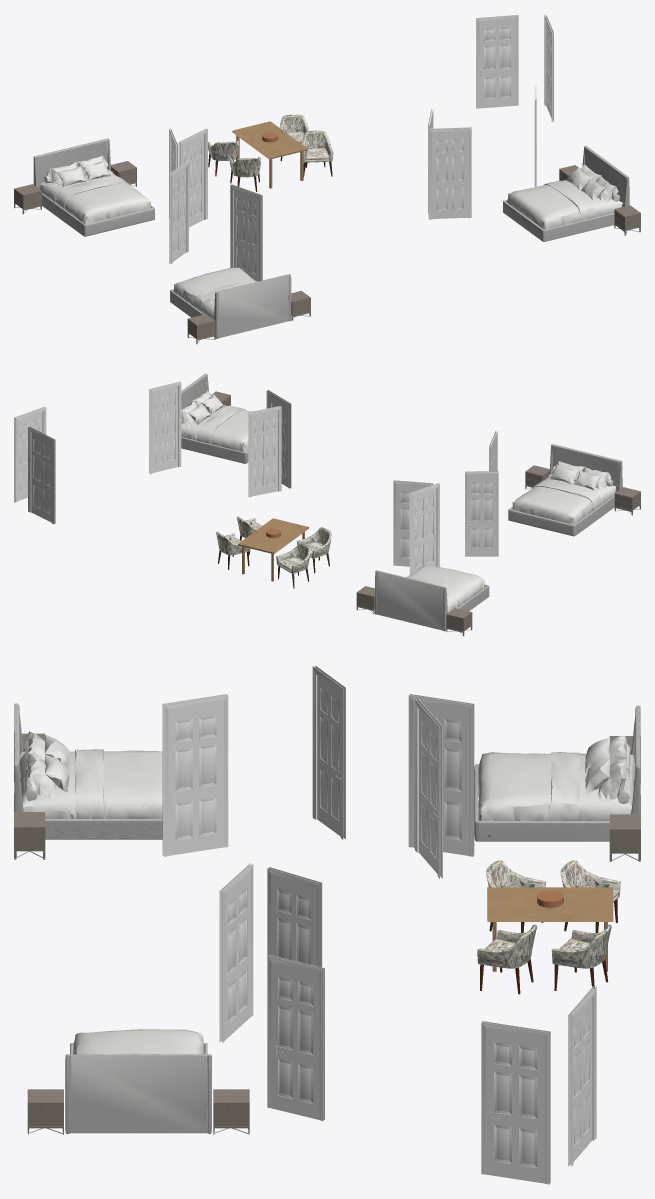
Rendered from bell-furniture-v4.glb.
The picture shows the model from 3 angles, top to bottom: view 1: azimuth 30°, elevation 25°; view 2: azimuth 150°, elevation 25°; view 3: azimuth 270°, elevation 25°; orthographic projection. The views are drawn at different scales.
Parts seen in each view (by area): view 1: Bell Utah style Bell · puerta interior 4, Bell Utah style Bell · puerta interior 7, Bell bed 3 Cama y mesitas · Anexo · dormitorio 02, Bell bed 2 Cama y mesitas · Anexo · dormitorio 05, Bell bed principal Cama y mesitas · Anexo · dormitorio 05, Bell Utah style Bell · puerta interior 2, Bell Utah style Bell · puerta interior 1, Bell bed 3 Cama y mesitas · Anexo · dormitorio 05, Bell retained dining table, Bell Utah style Bell · puerta interior 3, Bell bed 2 Cama y mesitas · Anexo · dormitorio 01, Bell bed principal Cama y mesitas · Anexo · dormitorio 01 (+13 smaller); view 2: Bell bed 2 Cama y mesitas · Anexo · dormitorio 02, Bell bed 3 Cama y mesitas · Anexo · dormitorio 05, Bell Utah style Bell · puerta interior 3, Bell Utah style Bell · puerta interior 5, Bell Utah style Bell · puerta interior 6, Bell Utah style Bell · puerta interior 0, Bell Utah style Bell · puerta interior 7, Bell bed principal Cama y mesitas · Anexo · dormitorio 05, Bell bed 2 Cama y mesitas · Anexo · dormitorio 05, Bell Utah style Bell · puerta interior 1, Bell Utah style Bell · puerta interior 8, Bell retained dining table (+14 smaller); view 3: Bell bed principal Cama y mesitas · Anexo · dormitorio 02, Bell Utah style Bell · puerta interior 8, Bell Utah style Bell · puerta interior 2, Bell Utah style Bell · puerta interior 6, Bell bed 2 Cama y mesitas · Anexo · dormitorio 05, Bell bed 3 Cama y mesitas · Anexo · dormitorio 05, Bell Utah style Bell · puerta interior 0, Bell Utah style Bell · puerta interior 4, Bell Utah style Bell · puerta interior 3, Bell Utah style Bell · puerta interior 5, Bell retained dining table, Bell Utah style Bell · puerta interior 1 (+14 smaller).
Boxes of the visible parts, x1,y1,x2,y2 form: Bell Utah style Bell · puerta interior 4: (428,127,471,219); Bell Utah style Bell · puerta interior 7: (476,15,518,108); Bell bed 3 Cama y mesitas · Anexo · dormitorio 02: (217,274,289,338); Bell bed 2 Cama y mesitas · Anexo · dormitorio 05: (39,169,151,224); Bell bed principal Cama y mesitas · Anexo · dormitorio 05: (506,179,622,229); Bell Utah style Bell · puerta interior 2: (230,184,262,281); Bell Utah style Bell · puerta interior 1: (178,128,207,227); Bell bed 3 Cama y mesitas · Anexo · dormitorio 05: (173,267,257,318); Bell retained dining table: (232,121,307,188); Bell Utah style Bell · puerta interior 3: (169,161,188,264); Bell bed 2 Cama y mesitas · Anexo · dormitorio 01: (42,193,154,236); Bell bed principal Cama y mesitas · Anexo · dormitorio 01: (503,200,614,241); Bell bed 2 Cama y mesitas · Anexo · dormitorio 02: (377,570,444,630); Bell bed 3 Cama y mesitas · Anexo · dormitorio 05: (511,473,615,524); Bell Utah style Bell · puerta interior 3: (465,471,498,556); Bell Utah style Bell · puerta interior 5: (248,406,281,497); Bell Utah style Bell · puerta interior 6: (149,381,181,474); Bell Utah style Bell · puerta interior 0: (409,483,439,574); Bell Utah style Bell · puerta interior 7: (28,426,55,524); Bell bed principal Cama y mesitas · Anexo · dormitorio 05: (181,405,250,452); Bell bed 2 Cama y mesitas · Anexo · dormitorio 05: (406,564,485,612); Bell Utah style Bell · puerta interior 1: (393,480,433,566); Bell Utah style Bell · puerta interior 8: (14,406,46,502); Bell retained dining table: (238,518,308,581); Bell bed principal Cama y mesitas · Anexo · dormitorio 02: (69,1054,208,1133); Bell Utah style Bell · puerta interior 8: (481,1021,550,1184); Bell Utah style Bell · puerta interior 2: (162,694,228,856); Bell Utah style Bell · puerta interior 6: (267,954,324,1120); Bell bed 2 Cama y mesitas · Anexo · dormitorio 05: (478,752,635,820); Bell bed 3 Cama y mesitas · Anexo · dormitorio 05: (19,749,162,818); Bell Utah style Bell · puerta interior 0: (408,694,474,856); Bell Utah style Bell · puerta interior 4: (219,863,253,1042); Bell Utah style Bell · puerta interior 3: (312,665,345,839); Bell Utah style Bell · puerta interior 5: (267,867,322,967); Bell retained dining table: (487,887,613,971); Bell Utah style Bell · puerta interior 1: (414,698,442,878).
Size of the model in its own units: 12.47 by 2.12 by 7.9.
15 materials, 8 textured.
